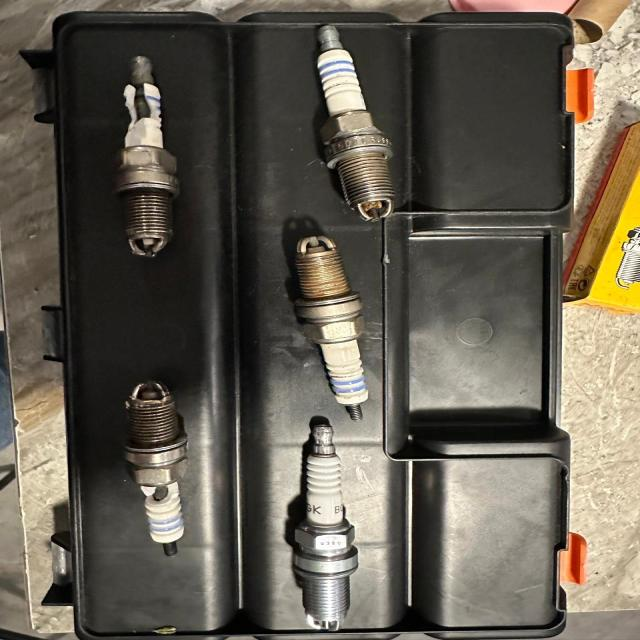damaged_spark-plug: (117, 50, 172, 261), (123, 382, 189, 553)
spark-plug: (313, 18, 408, 219), (288, 234, 377, 413), (287, 420, 356, 628)
